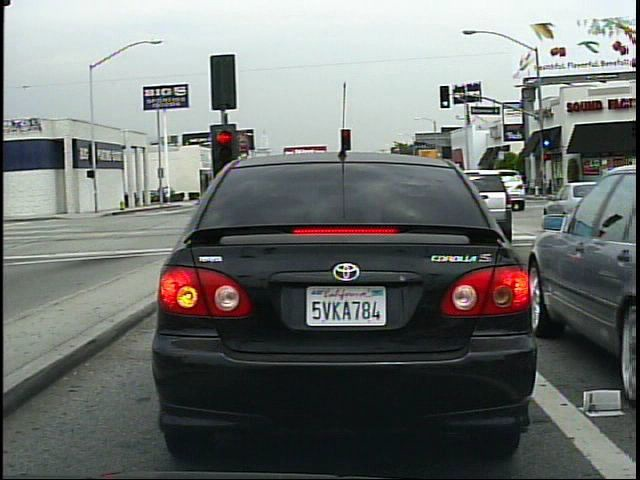person: (520, 166, 534, 199), (164, 183, 175, 207)
